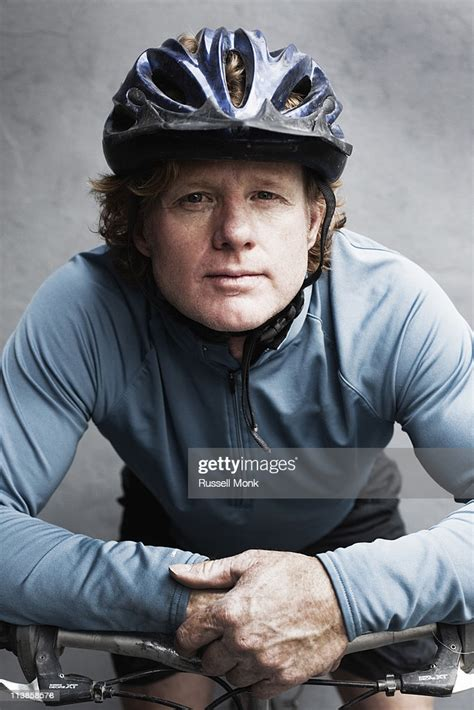com_capacete_bicicleta: (101, 24, 354, 343)
